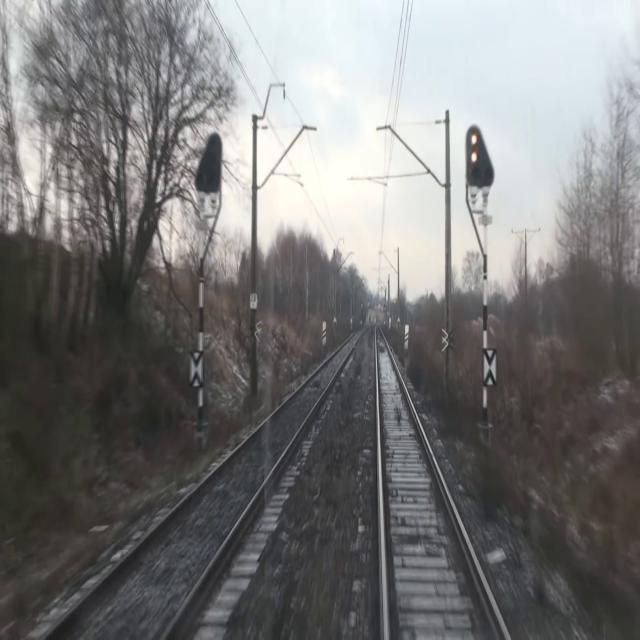rail-track: (47, 330, 361, 639), (377, 325, 502, 639)
